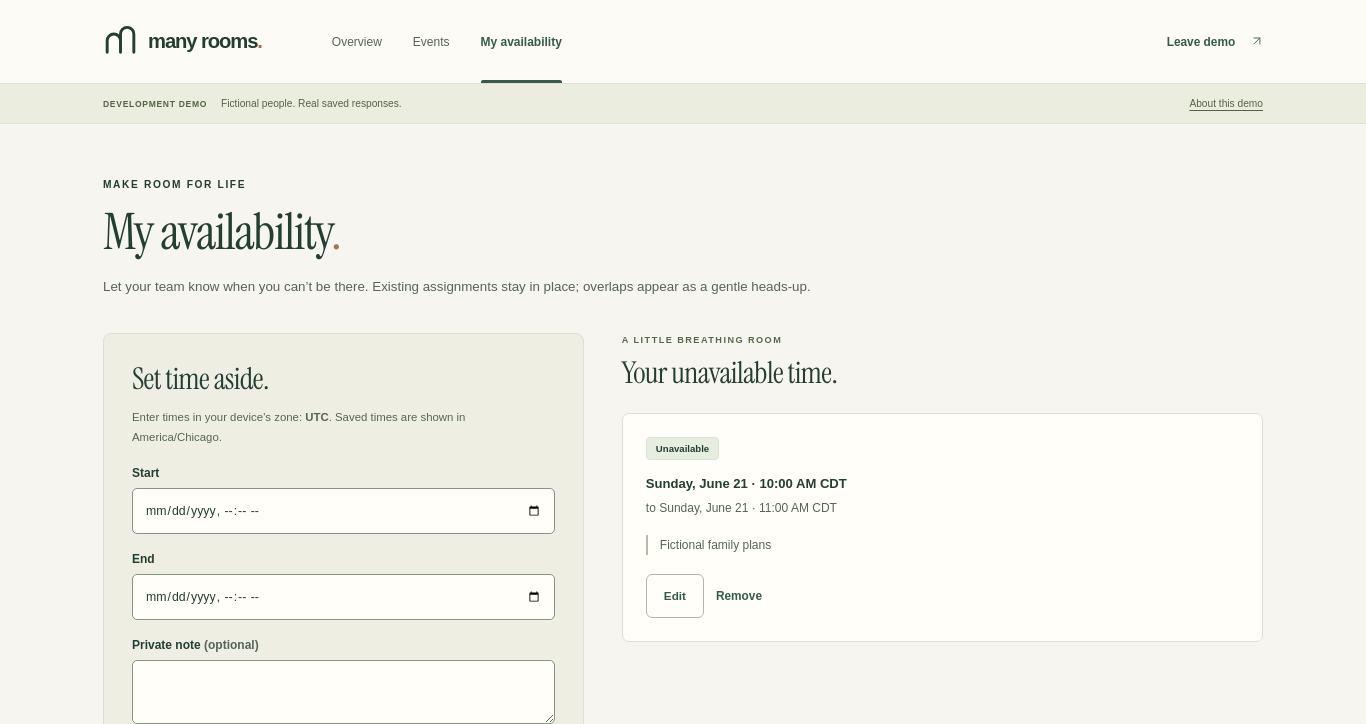
Test: my unavailable time › refreshes stale edits and requires a new deliberate edit
Expected: the text "Fictional family plans" is shown, [646,535,1239,555]
Click the button "Edit": coordinates (675, 596) [646,574,704,618]
(page scrolled)
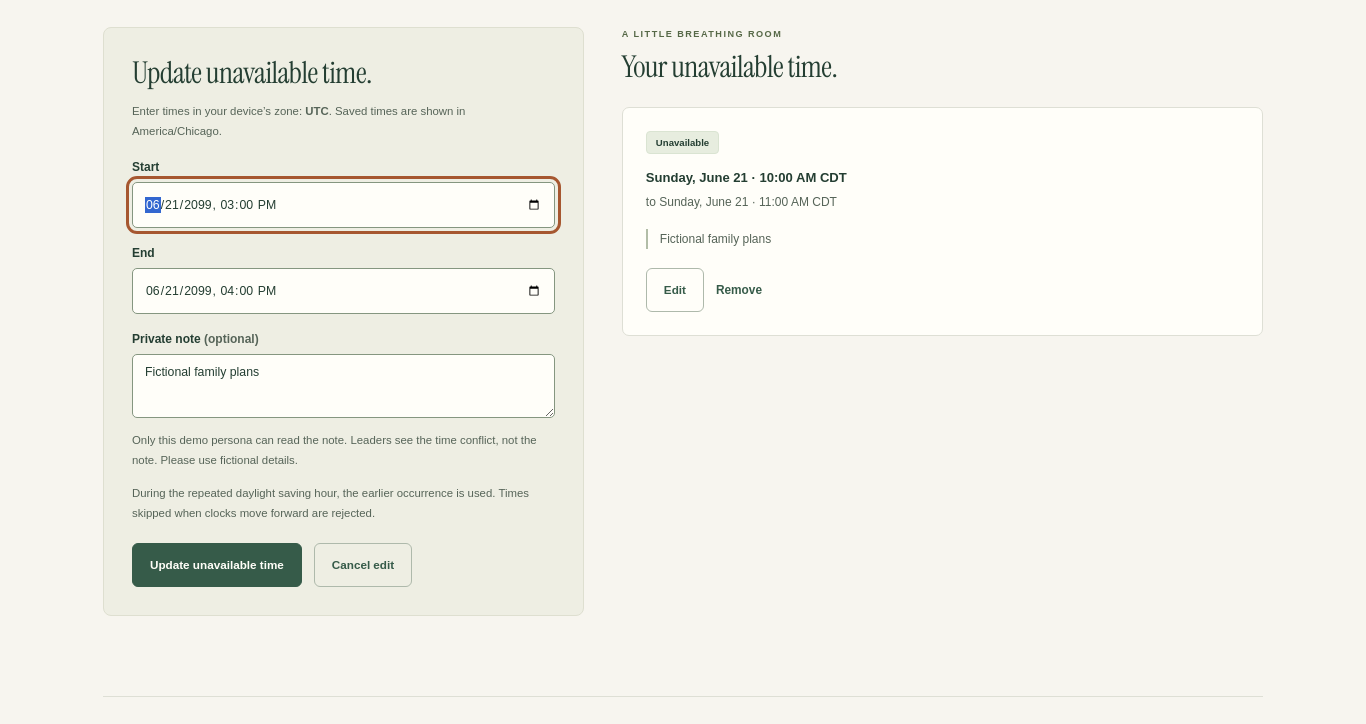
Click the button "Update unavailable time": coordinates (217, 565) [132,543,302,587]
(page scrolled)
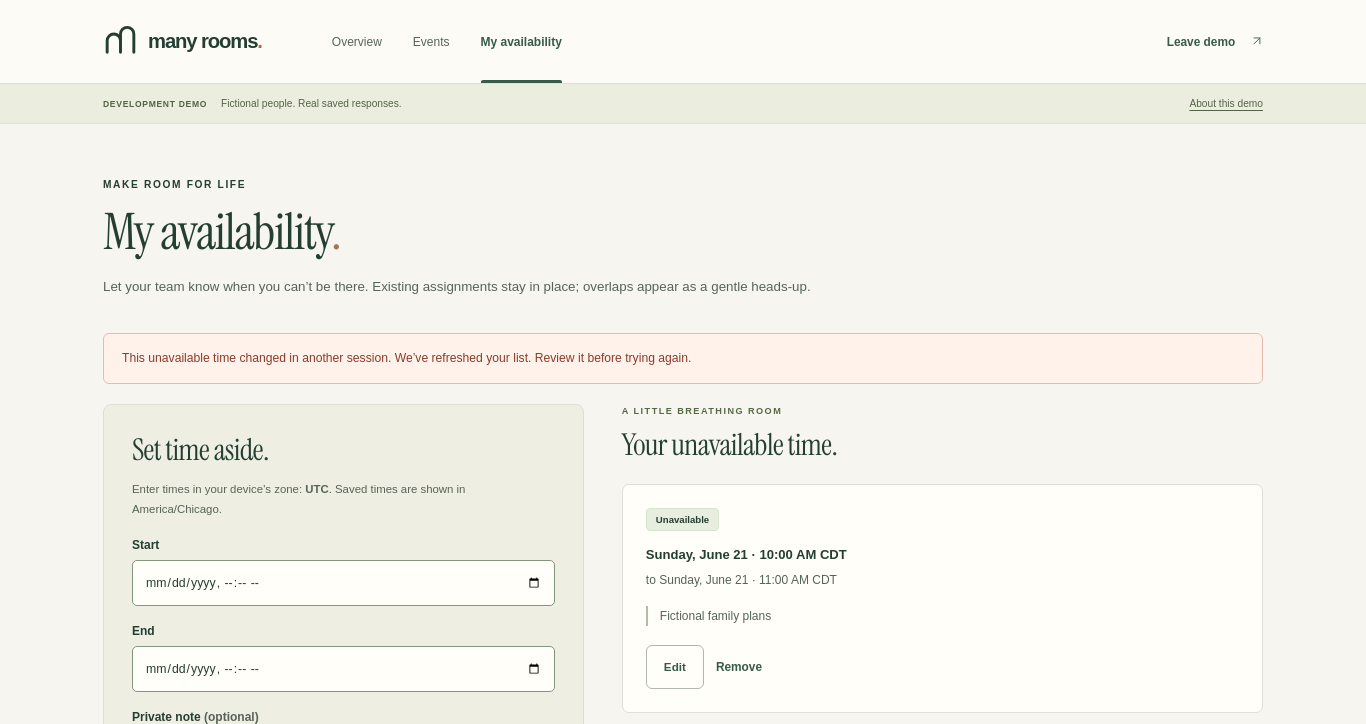
Expected: the message shows "Review it before trying again", [122,351,691,365]
Expected: the heading "Update unavailable time" is gone
